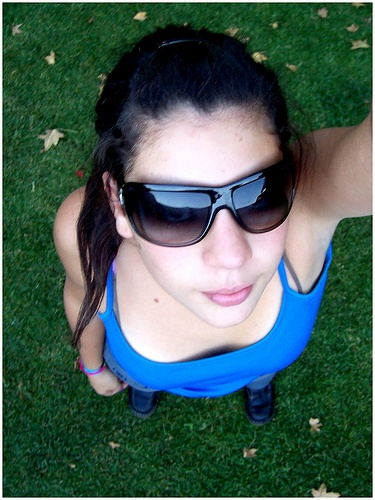head: (95, 26, 296, 330)
person: (44, 24, 375, 428)
